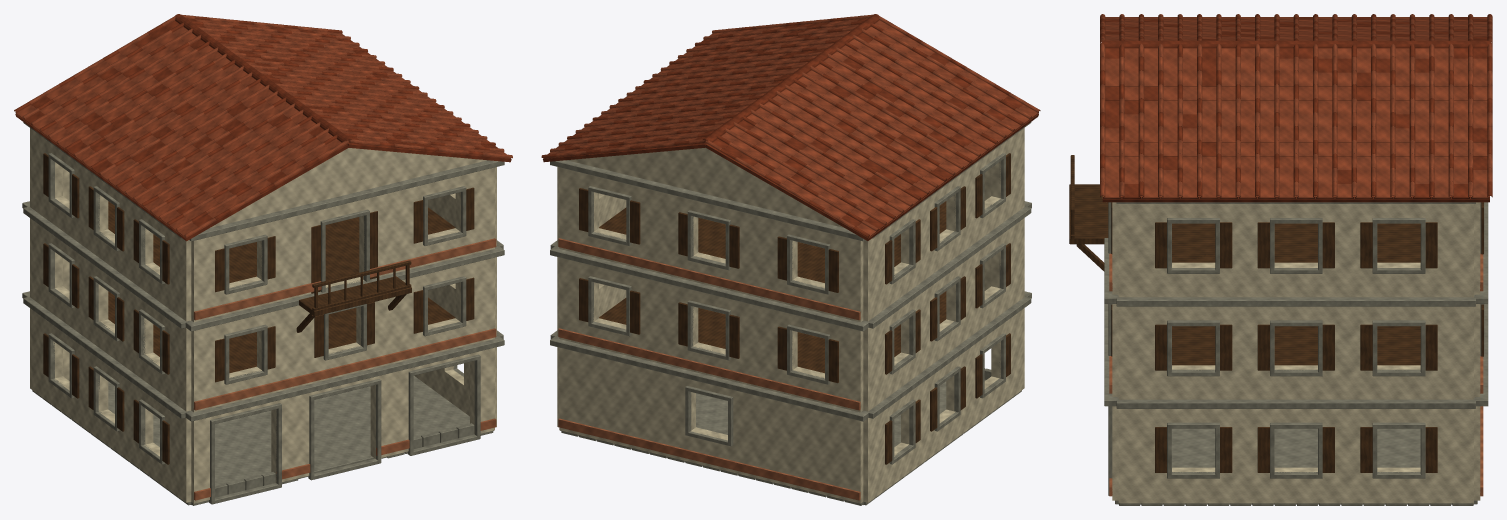
The model's file is insula_lod0.glb.
3 views of the same model, side by side, from view 1: azimuth 30°, elevation 25°; view 2: azimuth 150°, elevation 25°; view 3: azimuth 270°, elevation 25° (orthographic). The views are drawn at different scales.
Visible parts, largest first — view 1: insula_lod0; view 2: insula_lod0; view 3: insula_lod0.
Boxes of the visible parts, bbox=[...] form: insula_lod0: bbox=[14, 14, 512, 505]; insula_lod0: bbox=[541, 14, 1040, 505]; insula_lod0: bbox=[1069, 14, 1492, 505].
Bounding box in the file's own units: 10.87 × 10.62 × 10.71.
7 materials, 7 textured.
